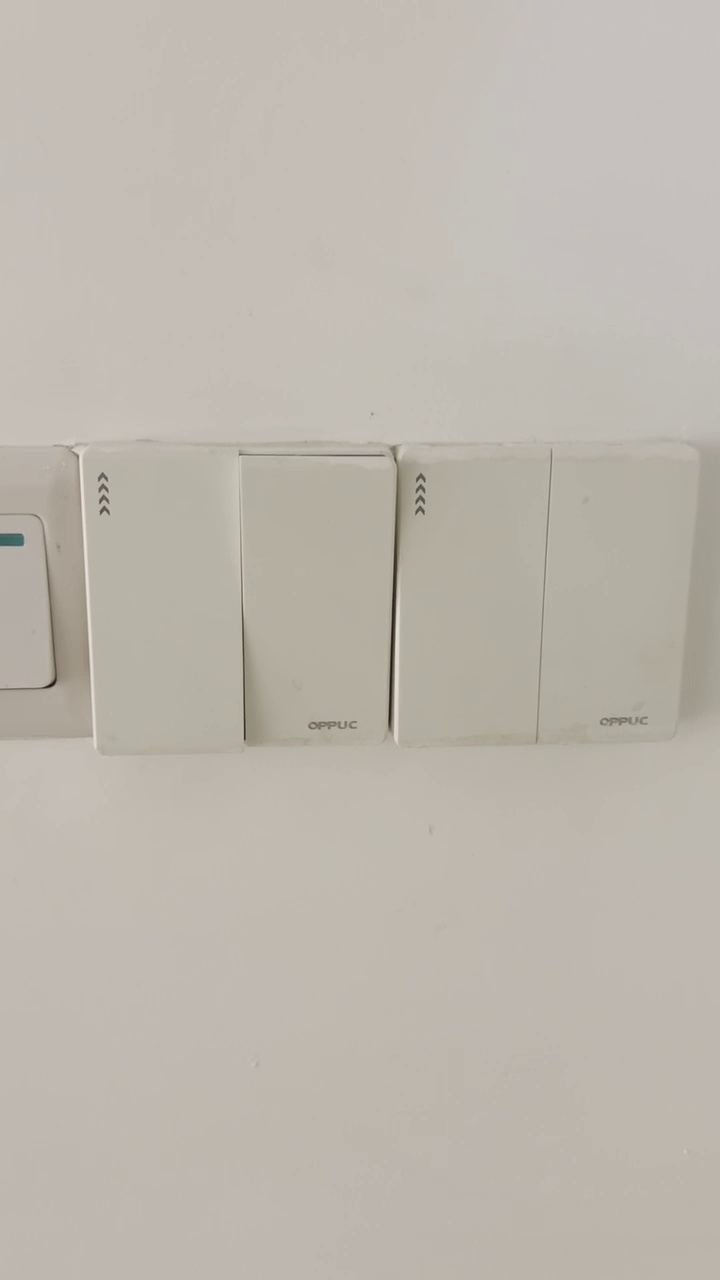button1: (85, 448, 242, 750), (395, 456, 545, 746), (246, 460, 391, 745), (544, 461, 682, 743)
